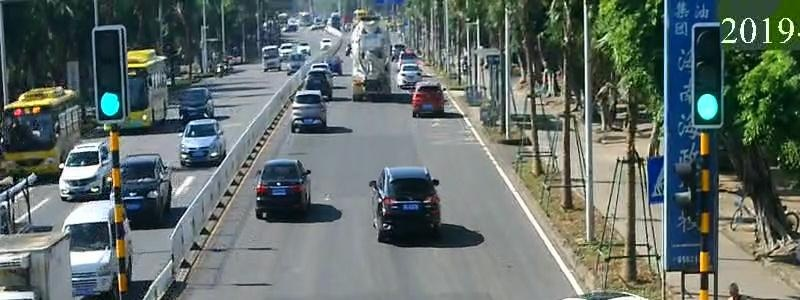green: (690, 85, 726, 133), (93, 84, 132, 126)
